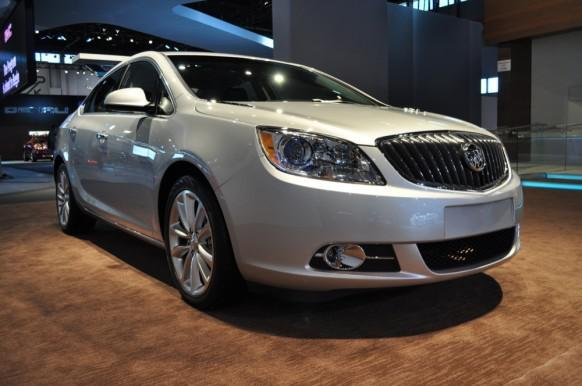Car: (48, 45, 546, 314)
